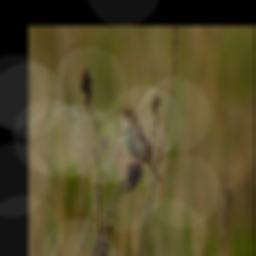Sparrow: (118, 104, 164, 182)
